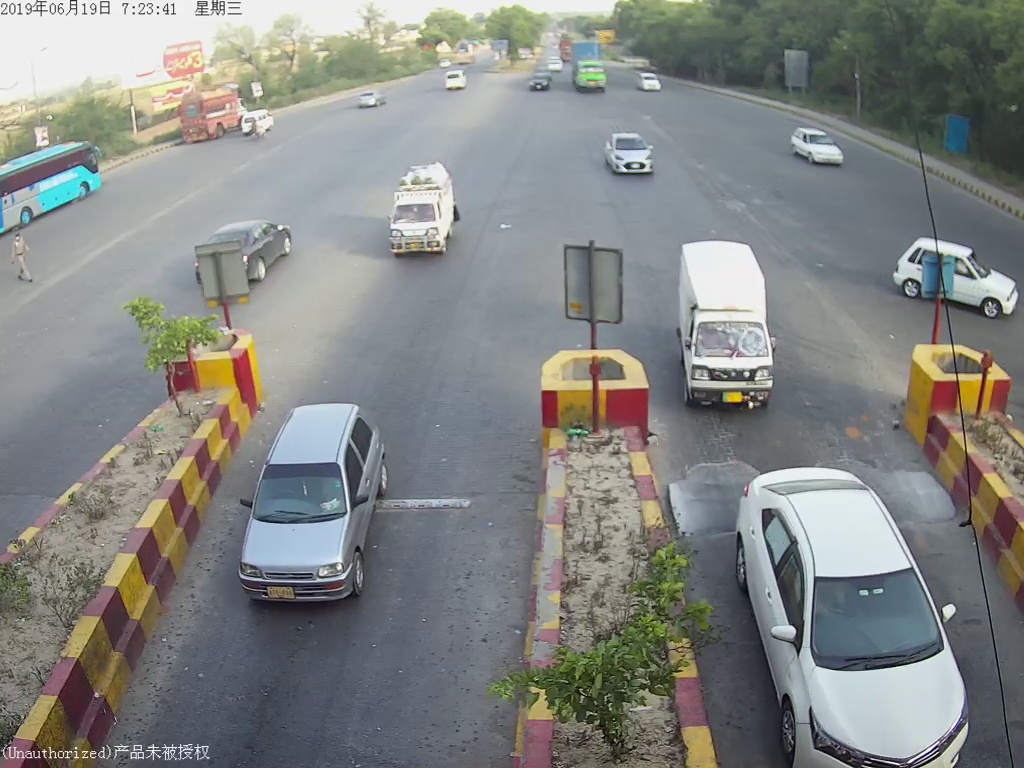Cat-1: (727, 467, 985, 768), (241, 376, 393, 626), (676, 236, 786, 428), (383, 160, 457, 271), (598, 129, 659, 188)
